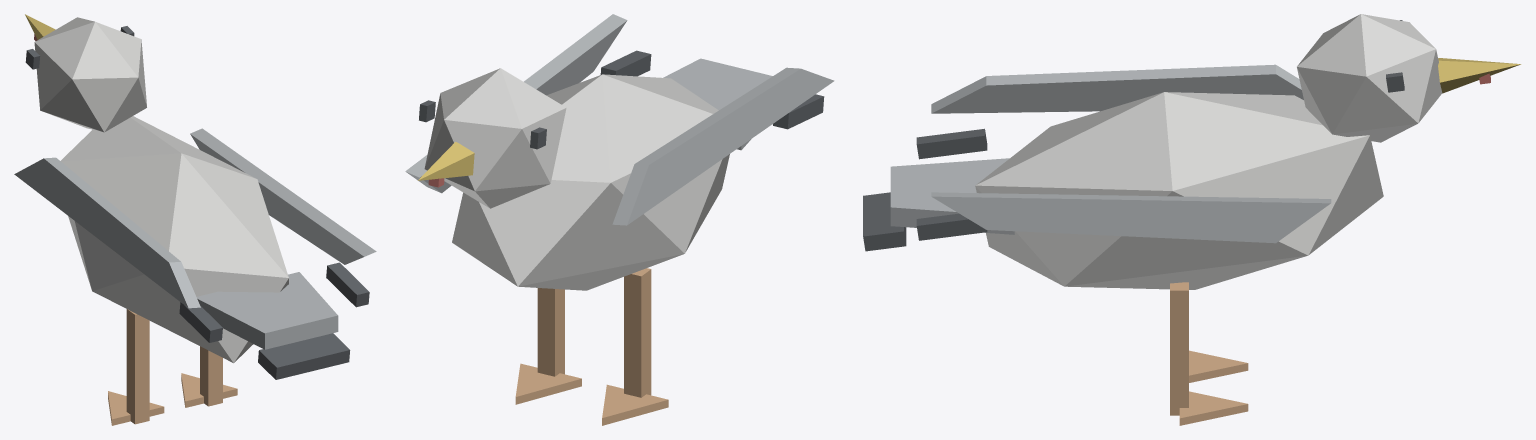
File: gull_standing.glb
3 views of the same model, side by side, from view 1: azimuth 30°, elevation 25°; view 2: azimuth 150°, elevation 25°; view 3: azimuth 270°, elevation 25° (orthographic). The views are drawn at different scales.
Visible parts, largest first — view 1: gull_standing; view 2: gull_standing; view 3: gull_standing.
Boxes of the visible parts, box(x1,y1,x2,y2) form: gull_standing: box(14, 14, 376, 425); gull_standing: box(405, 14, 834, 425); gull_standing: box(863, 14, 1521, 425).
Size of the model in its own units: 0.1857 by 0.3017 by 0.4777.
